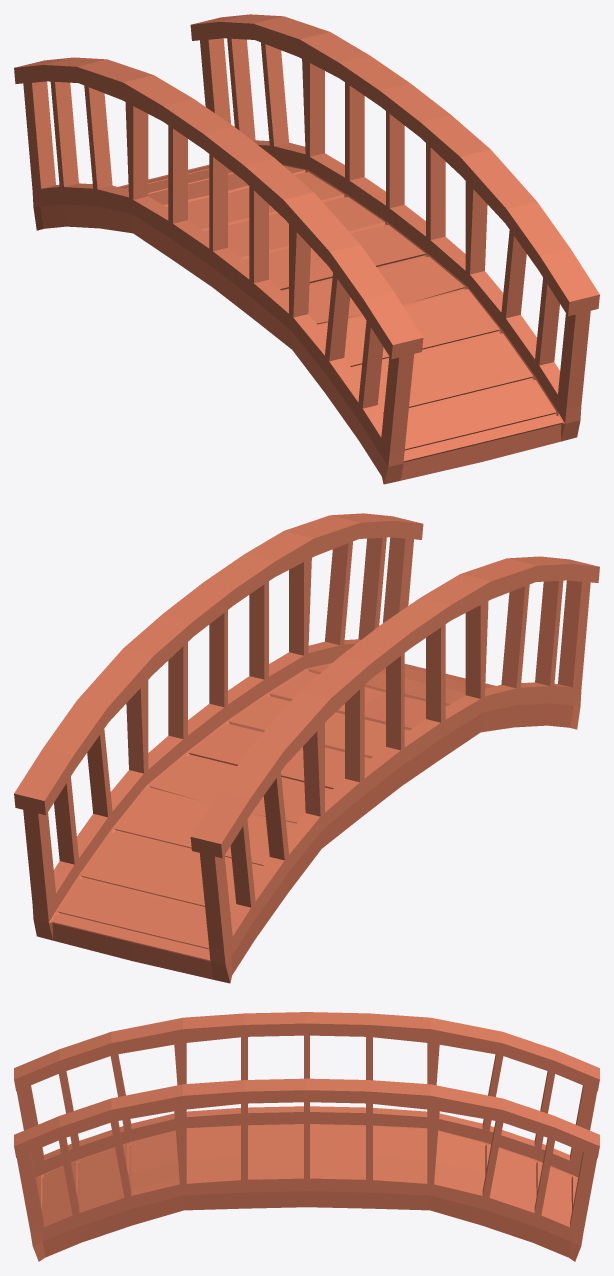
The model's file is silta_taivutettu.fbx.
3 views of the same model, one above another, from view 1: azimuth 30°, elevation 25°; view 2: azimuth 150°, elevation 25°; view 3: azimuth 270°, elevation 25° (orthographic). The views are drawn at different scales.
Visible parts, largest first — view 1: Cube.001; view 2: Cube.001; view 3: Cube.001.
Part boxes in pixels (x1,y1,x2,y2): Cube.001: [14, 14, 599, 484]; Cube.001: [14, 513, 599, 983]; Cube.001: [14, 1012, 599, 1261].
Bounding box in the file's own units: 313 × 326 × 993.
